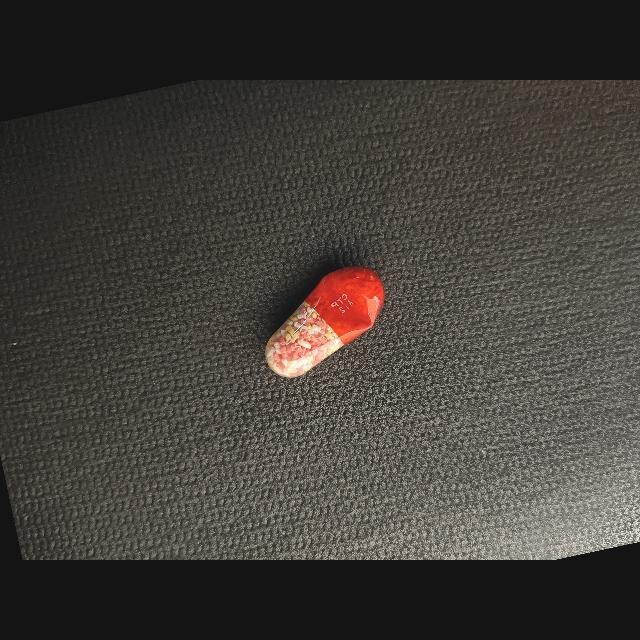Defective Capsule: (265, 266, 384, 378)
